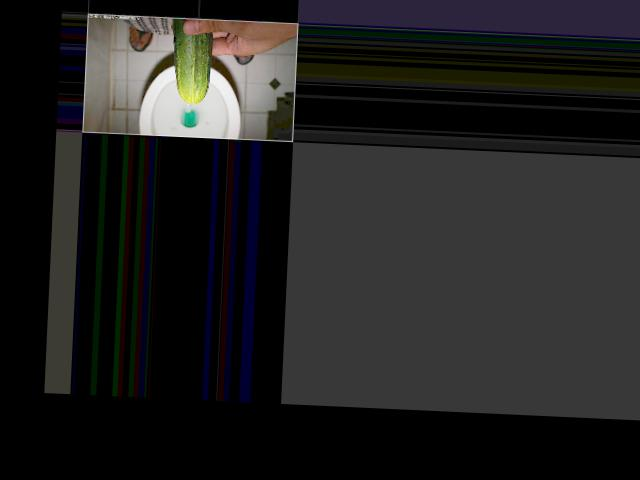cucumber: (169, 16, 212, 104)
